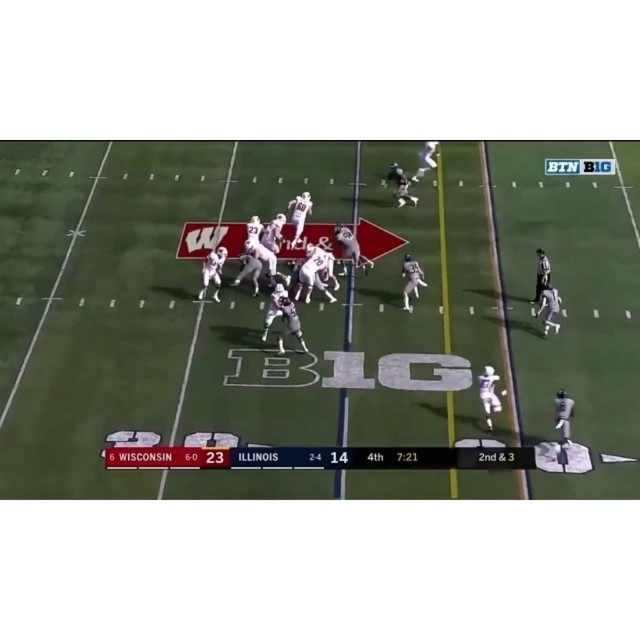american-football-player: (243, 238, 290, 290), (294, 252, 335, 305), (333, 221, 374, 272), (476, 365, 505, 432), (277, 296, 308, 355), (196, 246, 228, 303), (261, 283, 288, 343), (537, 280, 564, 339), (400, 253, 427, 312), (233, 248, 264, 297), (386, 162, 419, 208), (286, 192, 314, 246), (411, 140, 441, 187), (552, 388, 576, 444), (266, 212, 288, 252), (244, 214, 266, 246)
referee: (530, 248, 552, 310)
